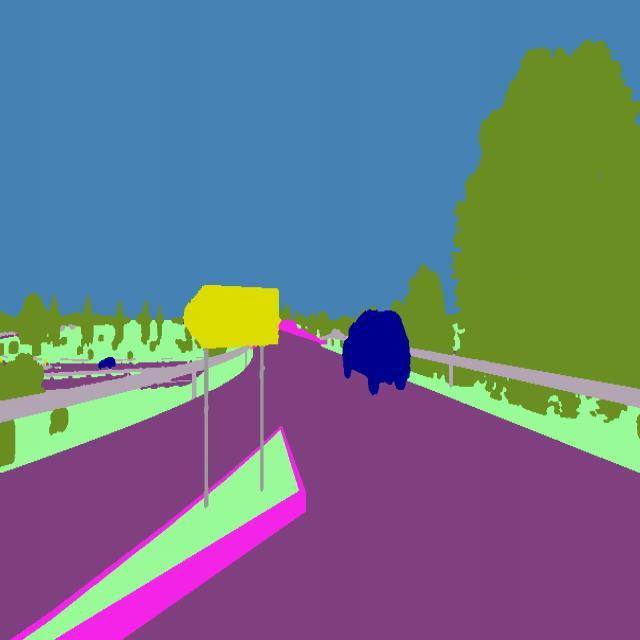safe: (336, 306, 414, 398)
